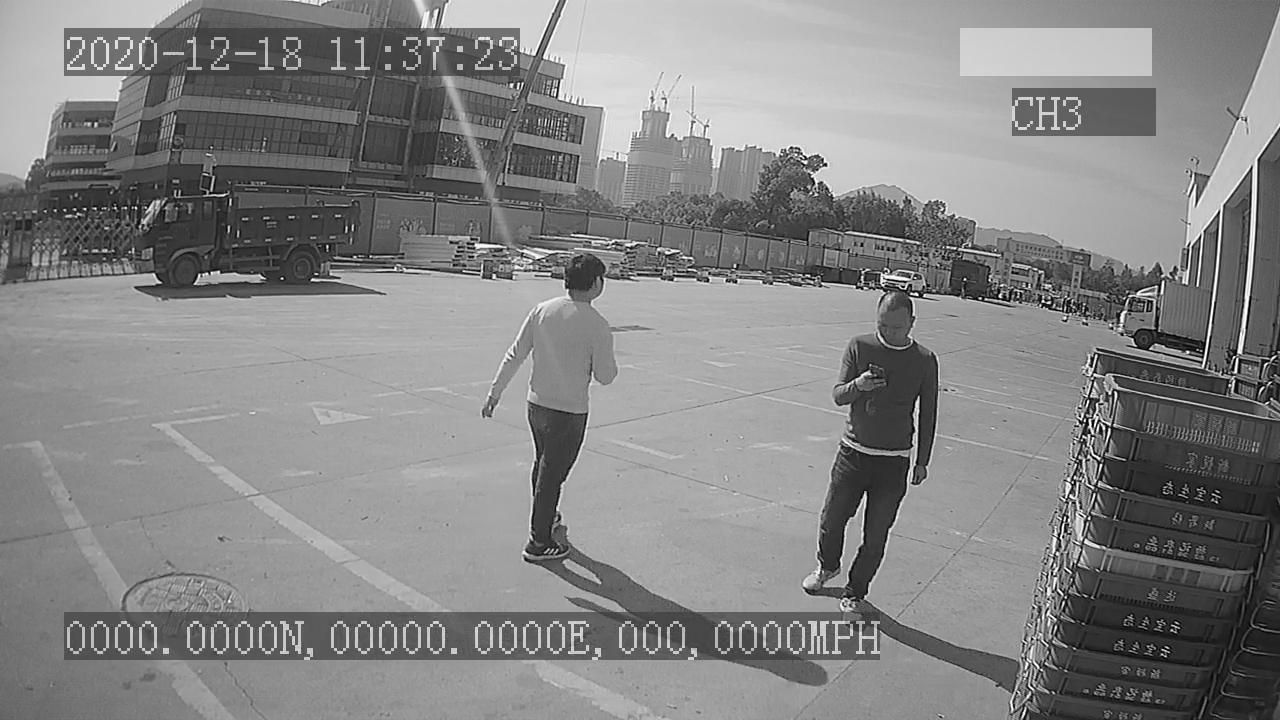person: (484, 251, 628, 562)
